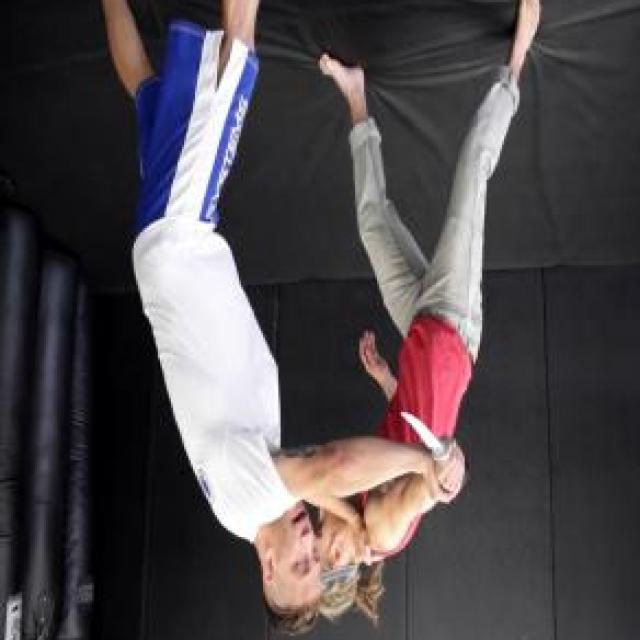knife: (396, 407, 474, 491)
